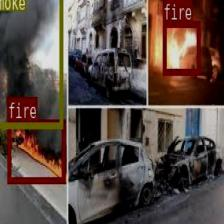fire: (7, 119, 65, 183), (162, 20, 200, 74)
smoke: (0, 0, 62, 128)
